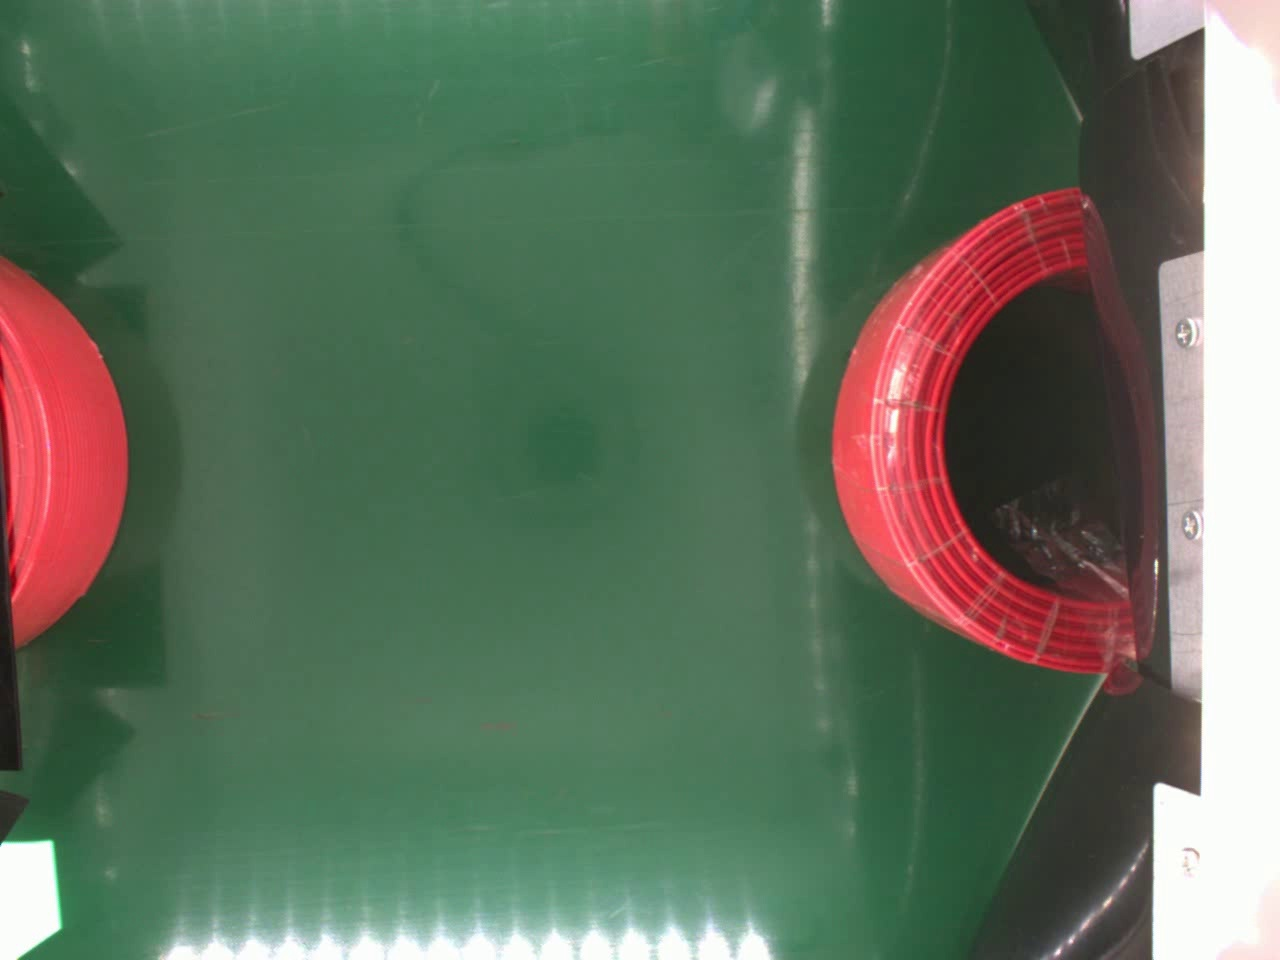red: (829, 185, 1134, 669), (0, 249, 130, 643)
